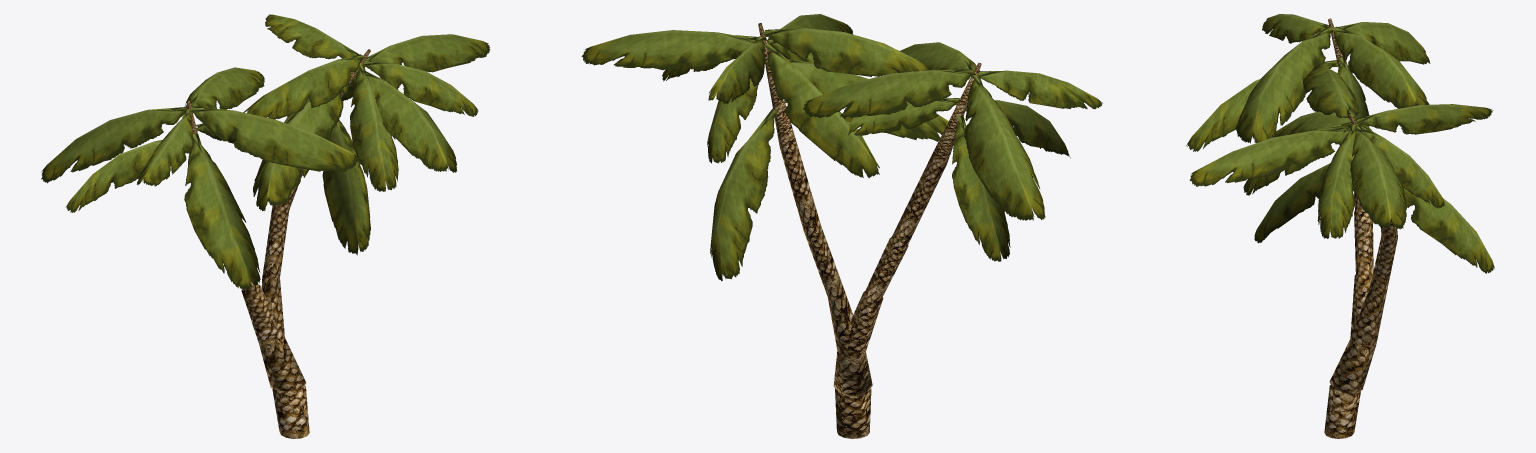
File: SM_TI_Palm_Tree_0.fbx
The picture shows the model from 3 angles, left to right: view 1: azimuth 30°, elevation 25°; view 2: azimuth 150°, elevation 25°; view 3: azimuth 270°, elevation 25°; orthographic projection. The views are drawn at different scales.
Parts seen in each view (by area): view 1: SM_TI_Palm_Tree_0; view 2: SM_TI_Palm_Tree_0; view 3: SM_TI_Palm_Tree_0.
Part boxes in pixels (bbox=[...]): SM_TI_Palm_Tree_0: bbox=[41, 14, 489, 438]; SM_TI_Palm_Tree_0: bbox=[581, 14, 1103, 438]; SM_TI_Palm_Tree_0: bbox=[1186, 14, 1494, 438].
Bounding box in the file's own units: 12.16 × 7.96 × 8.7.
